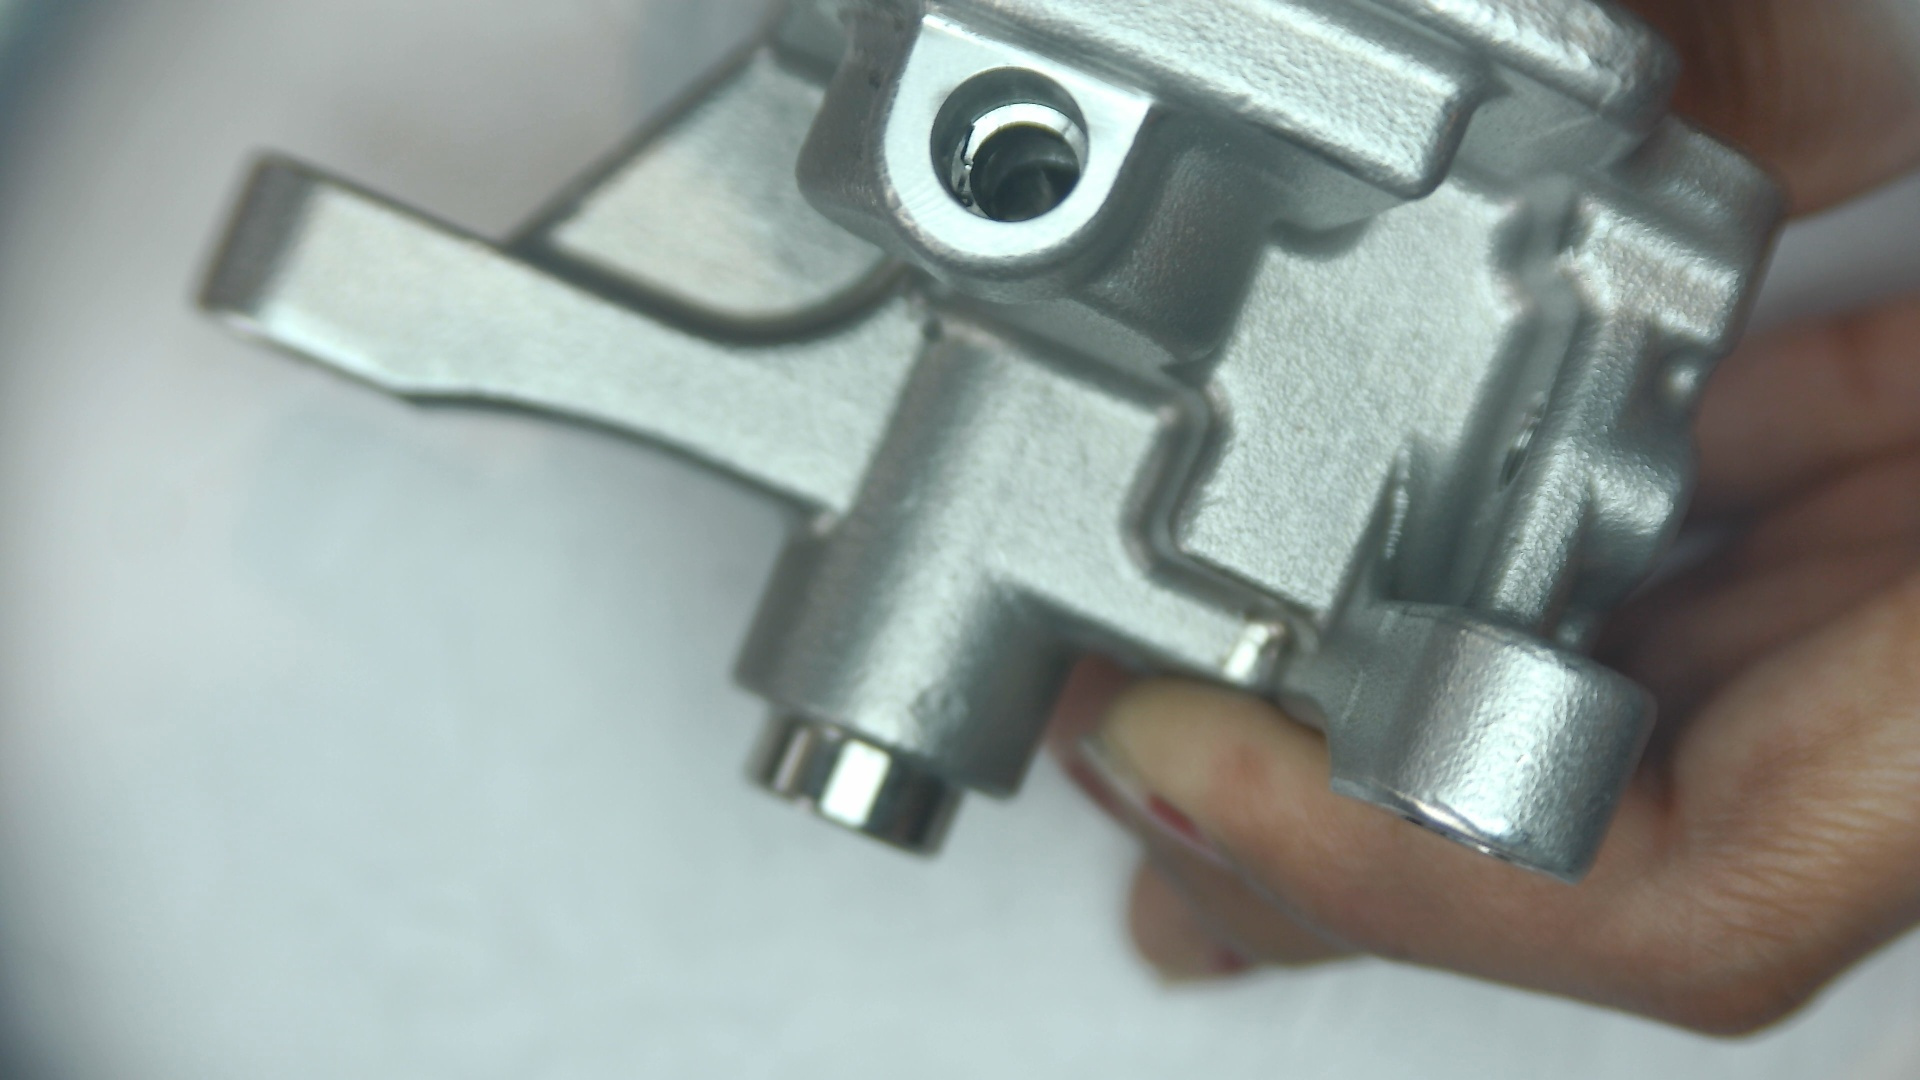burr: (1888, 220, 1920, 426)
